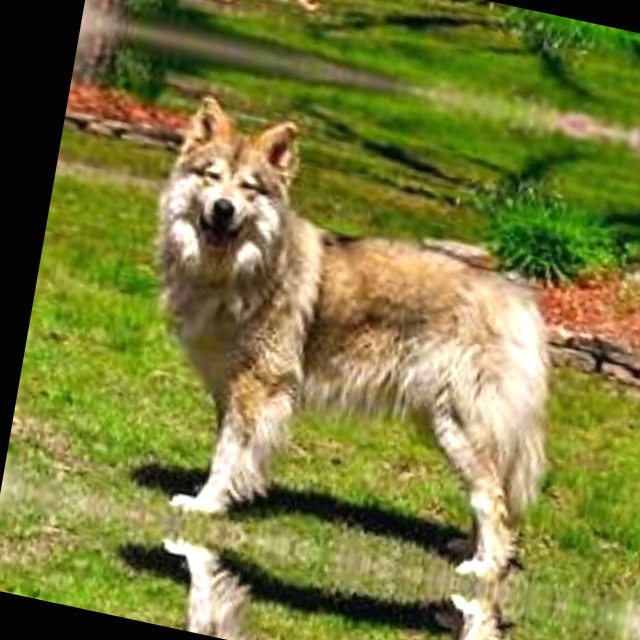dog: (45, 79, 639, 607), (27, 494, 568, 640), (134, 0, 640, 87)
